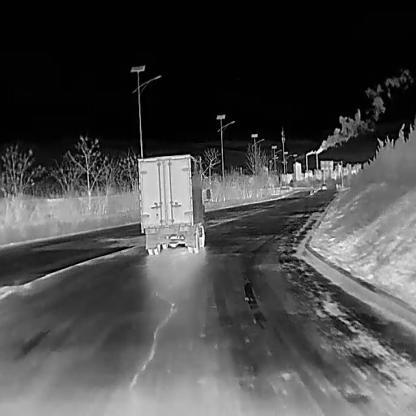car: (136, 154, 210, 254), (320, 183, 326, 188)
